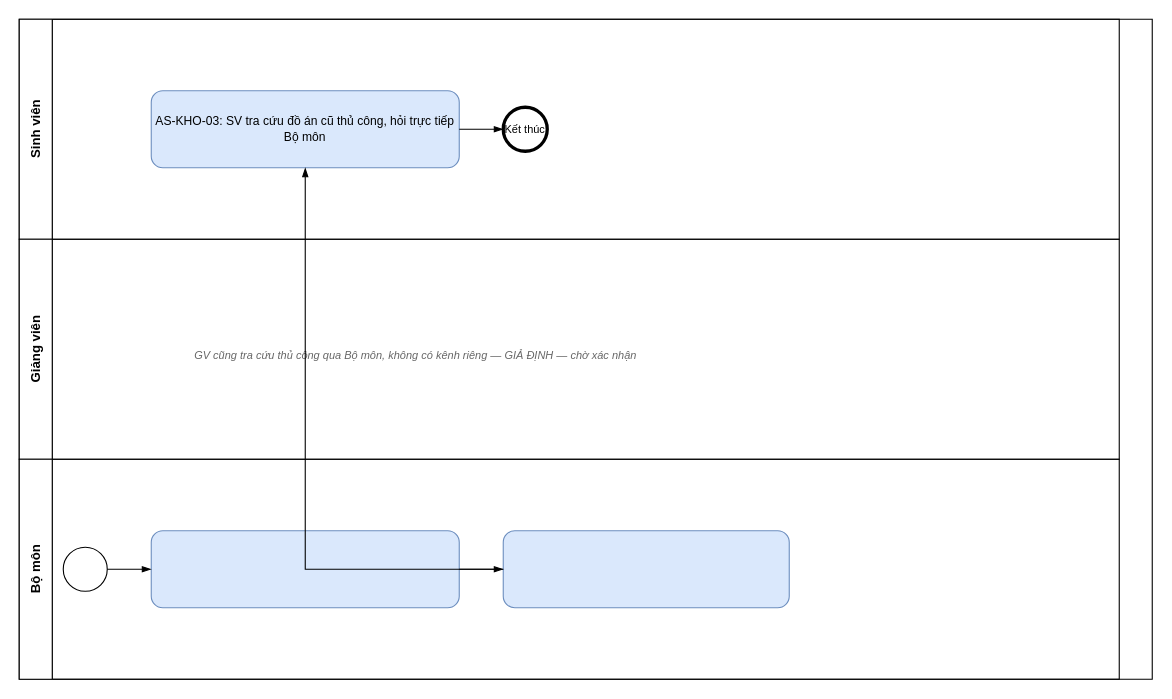
This 1172x699 diagram has some shape labels left out. Each missing label, with the centre of its shape:
AS-KHO-01: Bộ môn lưu bản cứng đồ án tại thư viện/văn phòng khoa: the point at 304,569
AS-KHO-02: Bản mềm lưu rải rác trên ổ dùng chung: the point at 645,569
Bắt đầu: the point at 84,568
